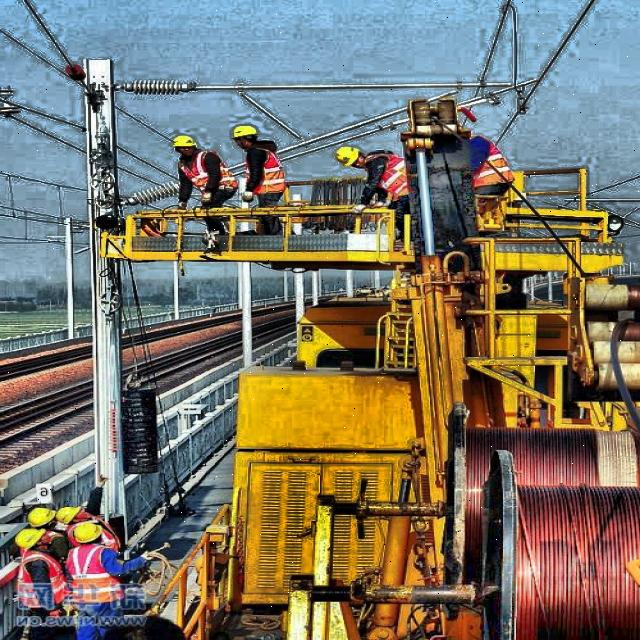helmet: (331, 141, 376, 171), (12, 525, 56, 553), (230, 118, 264, 152), (72, 522, 110, 550), (26, 506, 58, 530), (168, 132, 202, 154), (56, 505, 94, 523)
